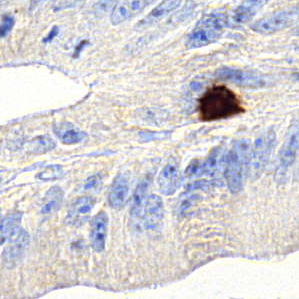Lymphocyte: (198, 84, 242, 120)
